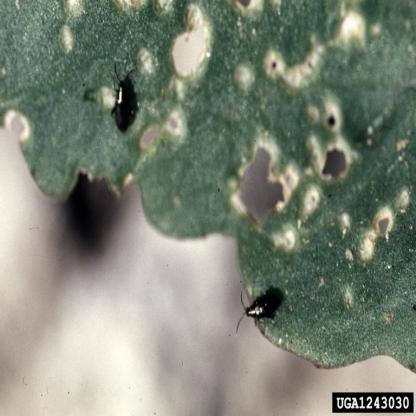beetle: (106, 61, 146, 132), (230, 284, 290, 328)
